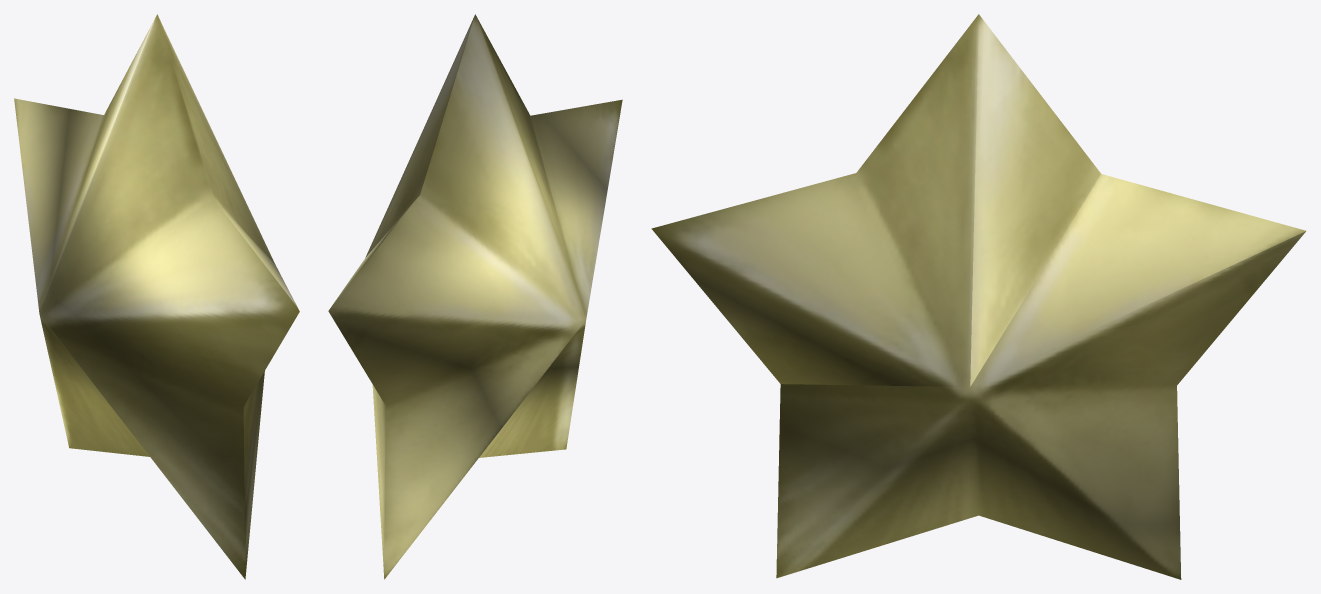
The picture shows the model from 3 angles, left to right: view 1: azimuth 30°, elevation 25°; view 2: azimuth 150°, elevation 25°; view 3: azimuth 270°, elevation 25°; orthographic projection. The views are drawn at different scales.
Visible parts, largest first — view 1: sn21st01; view 2: sn21st01; view 3: sn21st01.
Part boxes in pixels (box(x1,y1,x2,y2)): sn21st01: box(14, 14, 299, 579); sn21st01: box(328, 14, 622, 579); sn21st01: box(651, 14, 1305, 579).
Bounding box in the file's own units: 61.13 × 128 × 135.
1 material, 1 textured.
